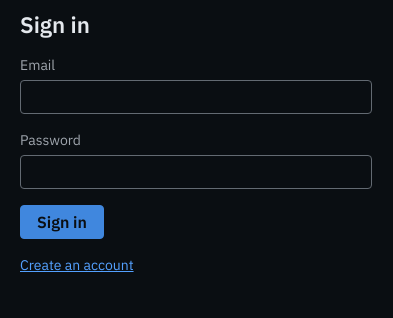
Scenario: AuthPage › renders the ApiError message in an alert
Type "ada@example.com" into the field labelled "Email" at (196, 97), box 20,80 -> 372,114
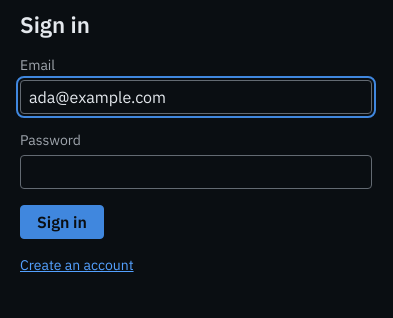
Type "wrong-password" into the password field labelled "Password" at (196, 172), box 20,155 -> 372,189
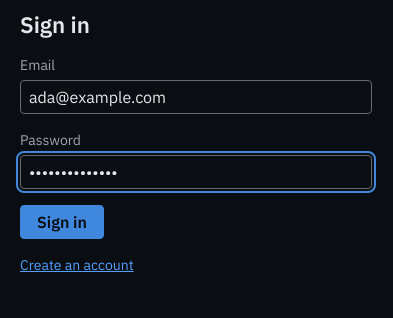
Click the button "Sign in" at (62, 222), box 20,205 -> 104,239
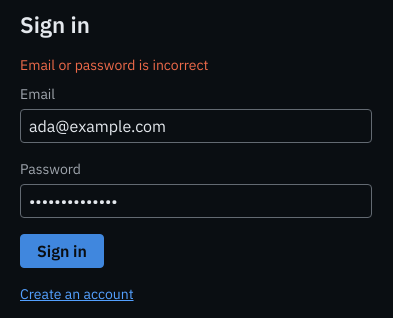
Check: the message reads "Email or password is incorrect", box 20,56 -> 208,74
